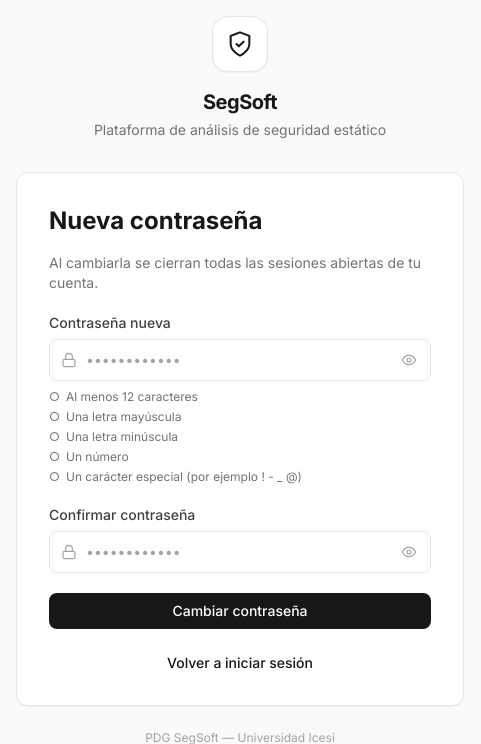
Test case: ResetPassword › keeps the form when the server rejects the password, since the link still works
In the password field labelled "Contraseña nueva": (240, 360) [49,339,431,381], type "Clave-Recuperada-2026!"
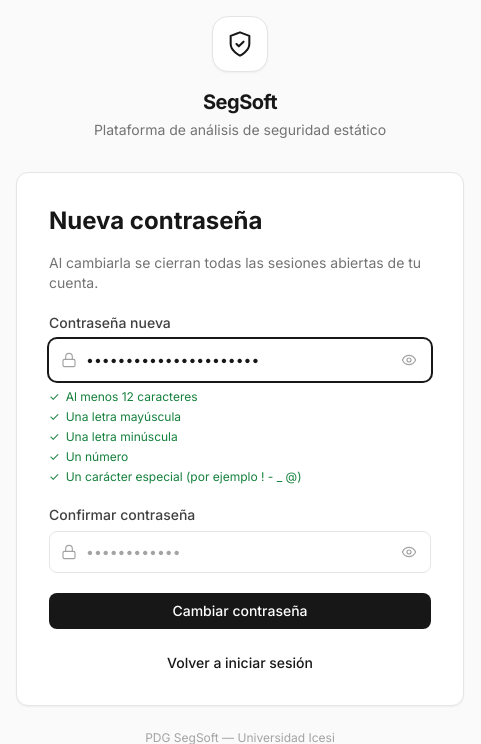
In the password field labelled "Confirmar contraseña": (240, 552) [49,531,431,573], type "Clave-Recuperada-2026!"
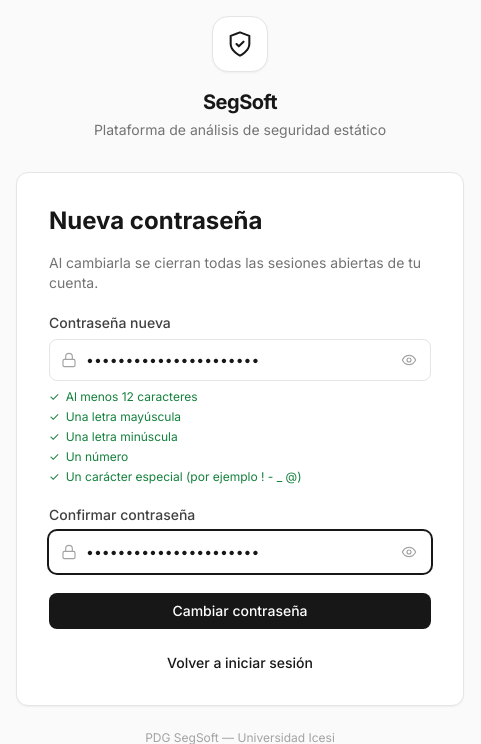
Click the button "Cambiar contraseña": (240, 611) [49,593,431,629]
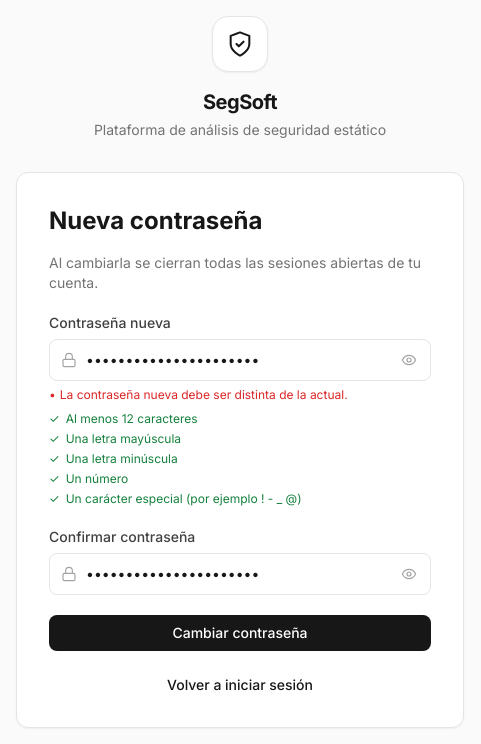
expect the button "Cambiar contraseña" is enabled: met, box [49,615,431,651]
expect the text "• La contraseña nueva debe ser distinta de la actual." is shown: met, box [49,387,348,402]
